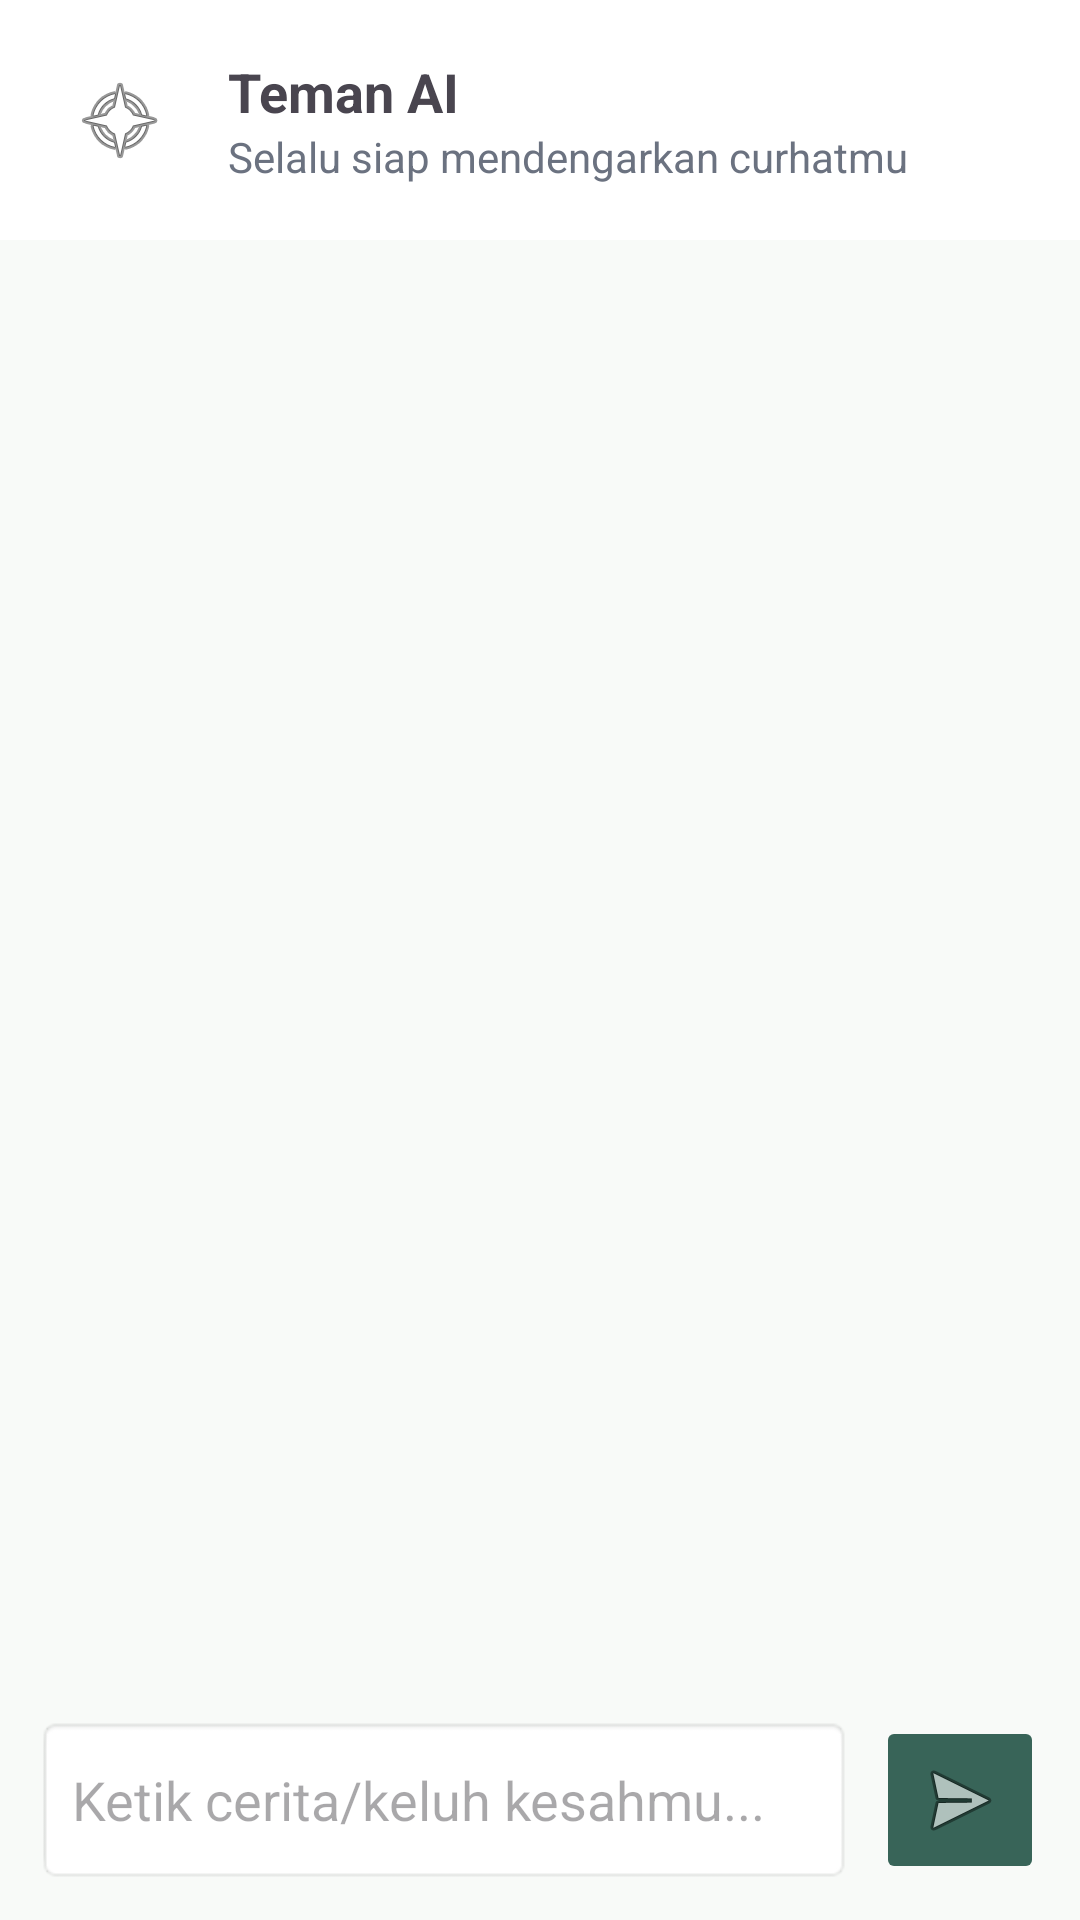

Locate icon controls on the screen. Image size 1080 × 1920, boxes as (x1, y1, x2, y2).
compass: (82, 83, 158, 158)
Kirim pesan: (888, 1734, 1032, 1866)
